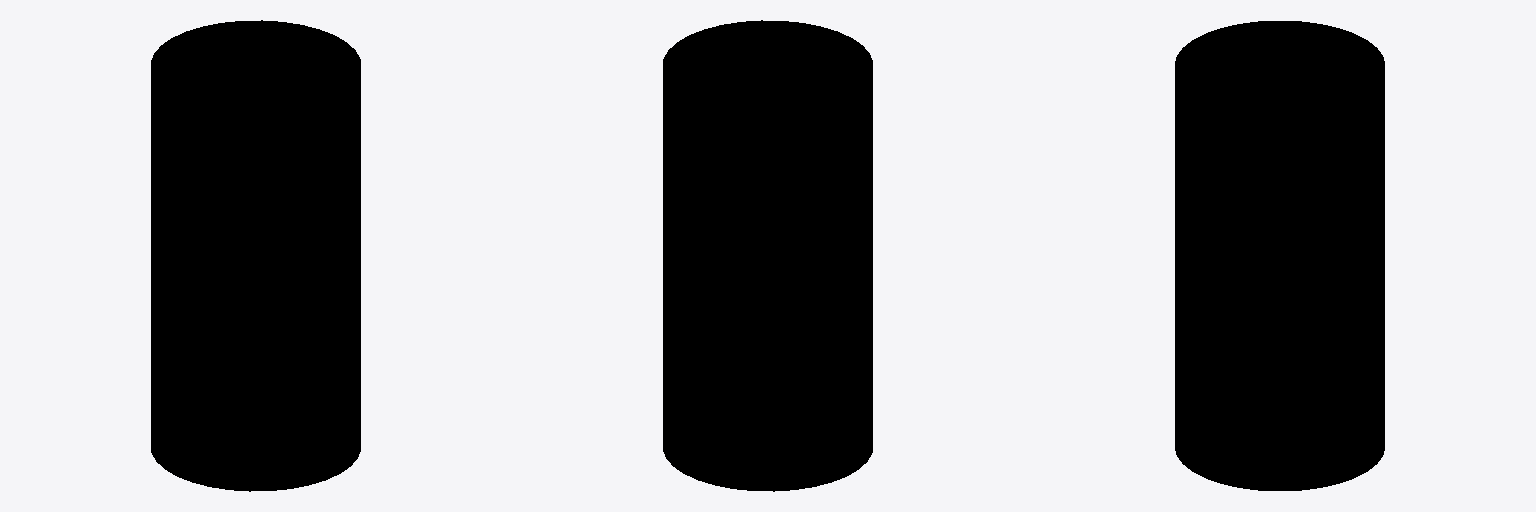
The robot description file, URDF, robot "ModularBot":
<?xml version="1.0" ?>
<!-- =================================================================================== -->
<!-- |    This document was autogenerated by xacro from [local-path]/catkin_ws/src/modular/urdf/ModularBot_test.urdf.xacro | -->
<!-- |    EDITING THIS FILE BY HAND IS NOT RECOMMENDED                                 | -->
<!-- =================================================================================== -->
<robot name="ModularBot" xmlns:xacro="http://ros.org/wiki/xacro">
  <material name="blue">
    <color rgba="0 0 0.8 1"/>
  </material>
  <material name="black">
    <color rgba="0 0 0 1"/>
  </material>
  <material name="white">
    <color rgba="1 1 1 1"/>
  </material>
  <link name="base_link">
    <visual>
      <origin rpy = "0 0 0" xyz = "0 0 0"/>
    </visual>
  </link>
  <link name="link_0">
    <visual>
      <origin rpy="0 0 0" xyz="0 0 0.2"/>
      <geometry>
        <cylinder length="0.4" radius="0.1"/>
      </geometry>
      <material name="black"/>
    </visual>
    <collision>
      <geometry>
        <cylinder length="0.4" radius="0.1"/>
      </geometry>
    </collision>
    <inertial>
      <mass value="10"/>
      <inertia ixx="1.0" ixy="0.0" ixz="0.0" iyy="1.0" iyz="0.0" izz="1.0"/>
    </inertial>
  </link>
  <joint name="fixed" type="fixed">
    <parent link="base_link"/>
    <child link="link_0"/>
    <axis rpy="0 0 0" xyz="0 0 1"/>
    <origin rpy="0.0 0.0 0.0" xyz="0.0 0.0 0.0"/>
  </joint>
</robot>

--- Render facts (derived) ---
The picture shows the robot from 3 angles, left to right: view 1: azimuth 30°, elevation 25°; view 2: azimuth 150°, elevation 25°; view 3: azimuth 270°, elevation 25°; orthographic projection.
Robot: ModularBot — 2 links, 1 joints (1 fixed); root link base_link; default pose: all joints at 0.
Links seen in each view (by area): view 1: link_0; view 2: link_0; view 3: link_0.
Boxes of the visible links, x1,y1,x2,y2 form: link_0: (151,20,360,491); link_0: (663,20,872,491); link_0: (1175,21,1384,490).
Bounding box of the posed robot: 0.2 × 0.2 × 0.4 m (x, y, z).
Geometry: primitives only (box / cylinder / sphere), no mesh files.
